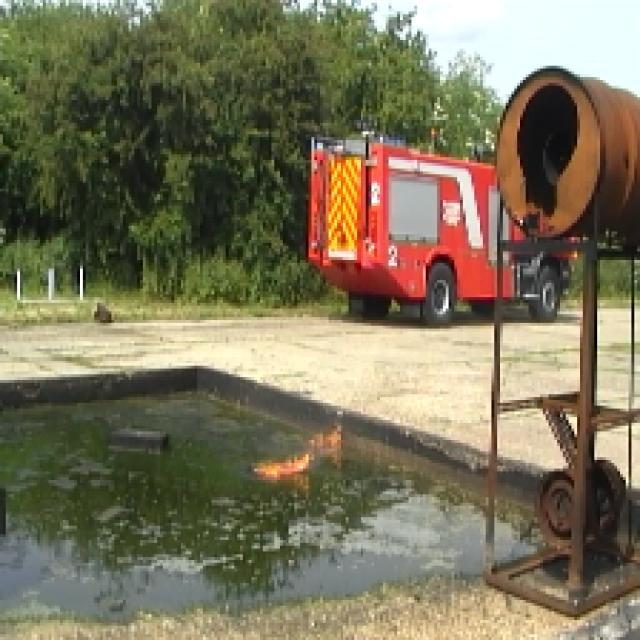Fire: (265, 420, 338, 476)
